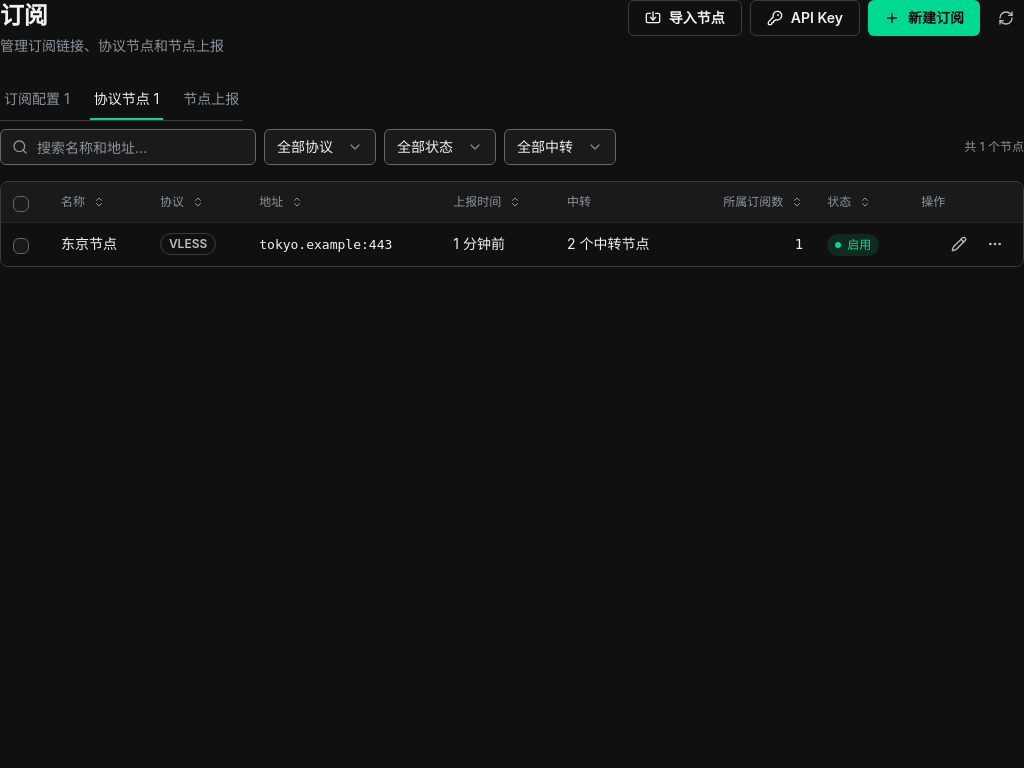
Test case: 订阅重构真实页面 › 来源节点未勾选时阻止提交并说明后端拒绝删除
This screenshot has width=1024, height=768.
Press the mouse on the button named "东京节点 更多操作": (995, 244) [979, 228, 1011, 260]
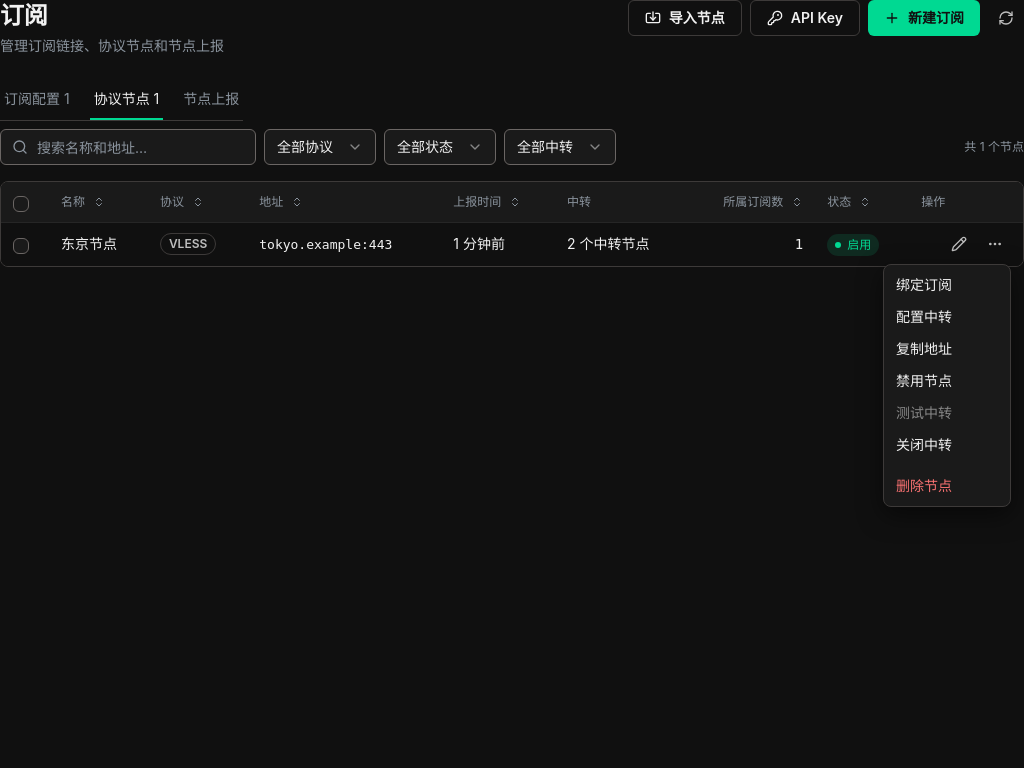
Click the menu item "删除节点": (924, 486) [896, 477, 952, 494]
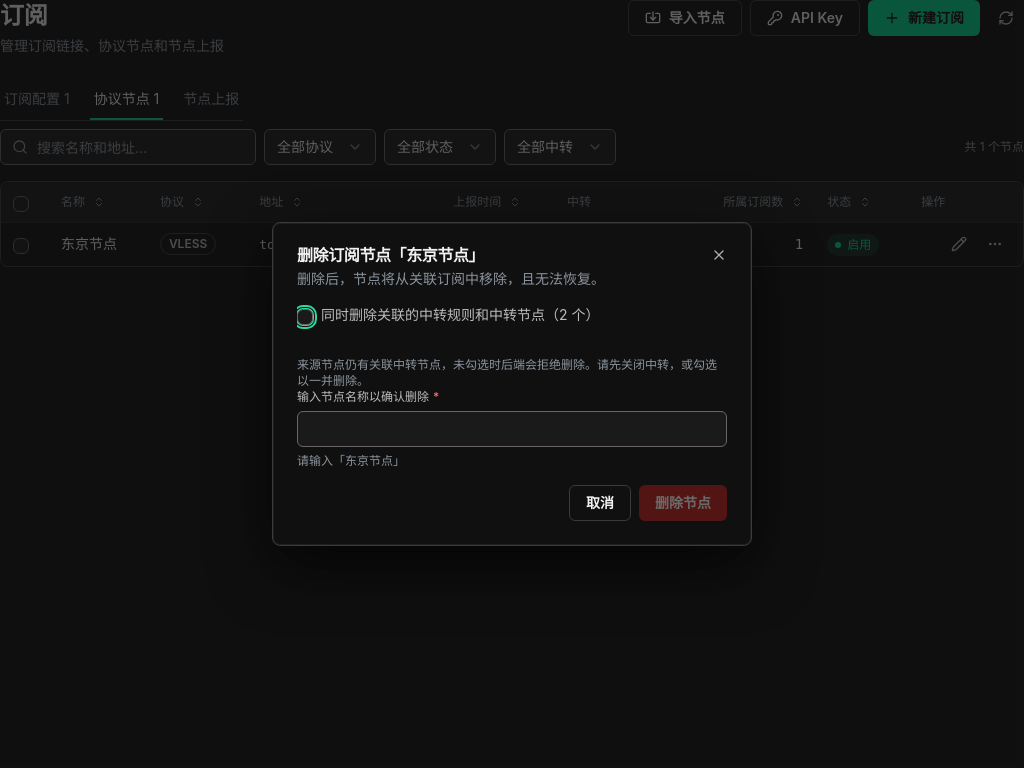
Check: the button "删除节点" is disabled, box [639, 485, 727, 521]
Check: the dialog shows "未勾选时后端会拒绝删除", box [297, 357, 717, 388]
